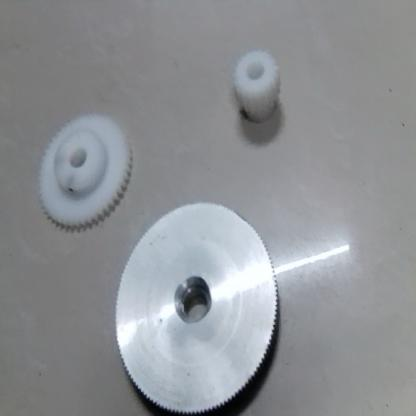FOD: (113, 198, 286, 415), (37, 114, 136, 230), (223, 47, 288, 127)
